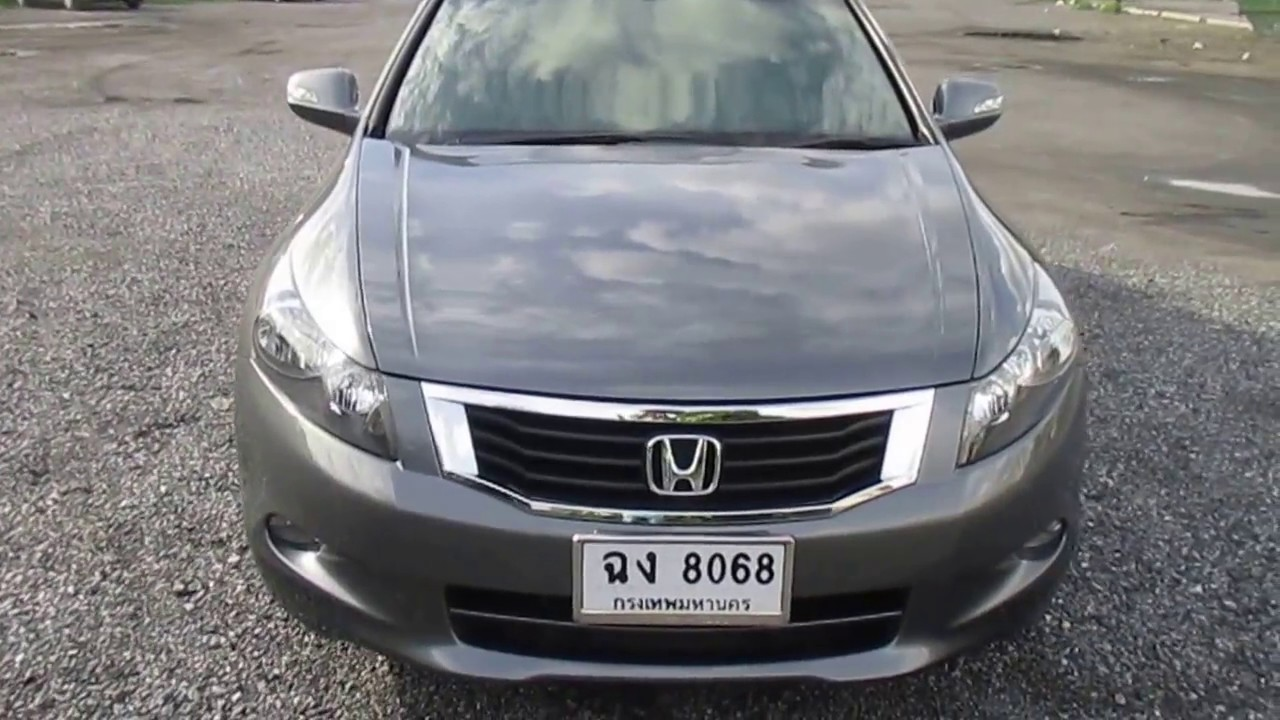sedan: (227, 7, 1091, 694)
